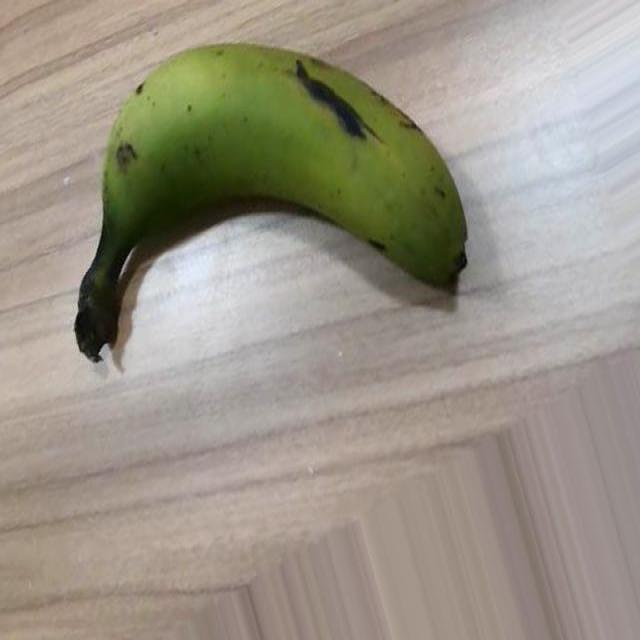Unripe: (71, 36, 469, 365)
